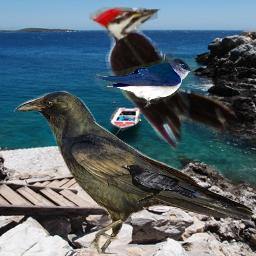Crow: (12, 90, 255, 254), (120, 164, 199, 204)
Swallow: (93, 58, 195, 108)
Woodpecker: (89, 7, 255, 151)
